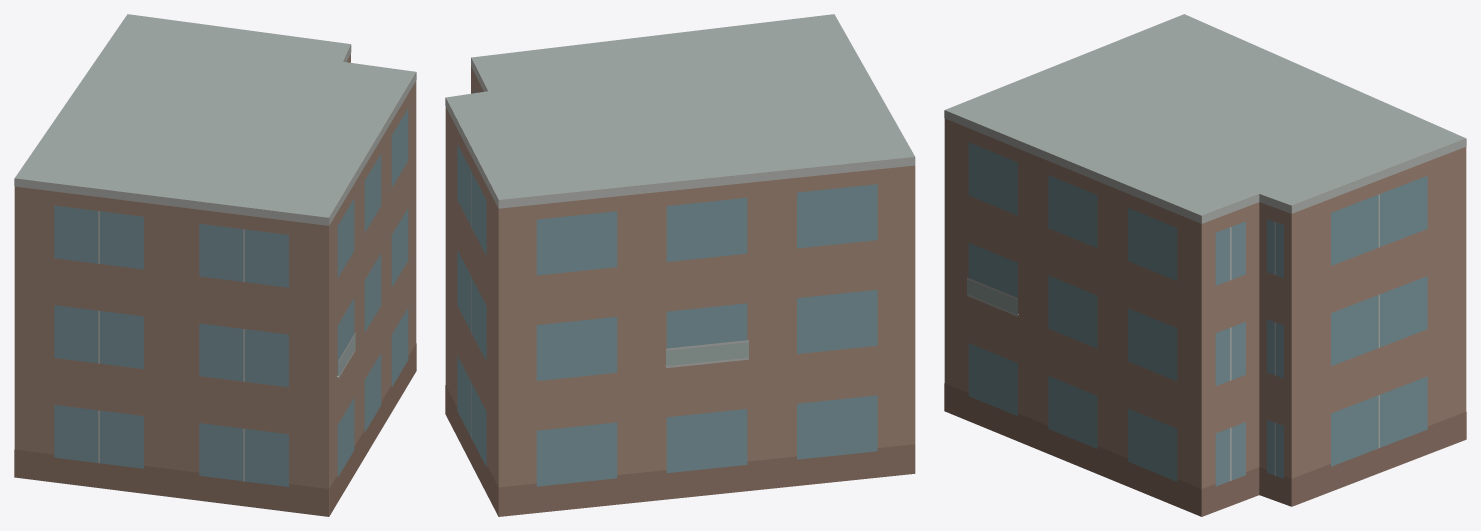
File: survey-upis-32783053.glb
3 views of the same model, side by side, from view 1: azimuth 30°, elevation 25°; view 2: azimuth 150°, elevation 25°; view 3: azimuth 270°, elevation 25° (orthographic). The views are drawn at different scales.
Parts seen in each view (by area): view 1: survey-upis-32783053.tmp; view 2: survey-upis-32783053.tmp; view 3: survey-upis-32783053.tmp.
Boxes of the visible parts, x1=… form: survey-upis-32783053.tmp: x1=14, y1=14, x2=416, y2=516; survey-upis-32783053.tmp: x1=445, y1=14, x2=915, y2=516; survey-upis-32783053.tmp: x1=944, y1=14, x2=1466, y2=516.
Bounding box in the file's own units: 12.93 × 8.99 × 14.13.
